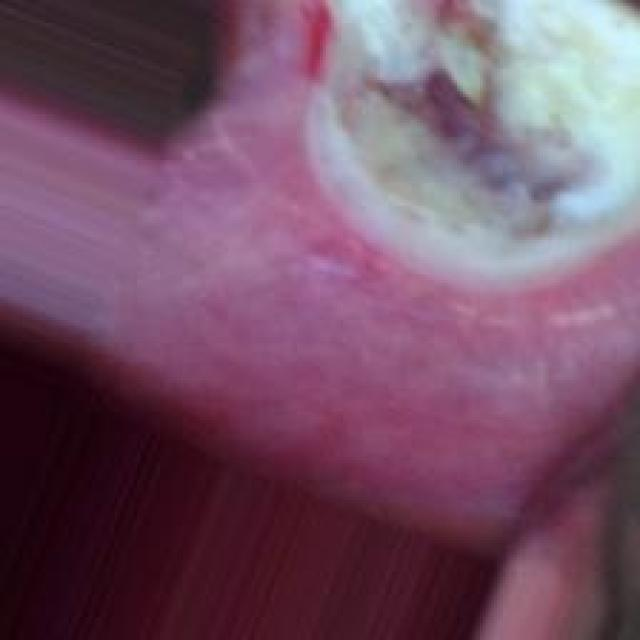type-1: (161, 0, 639, 526)
